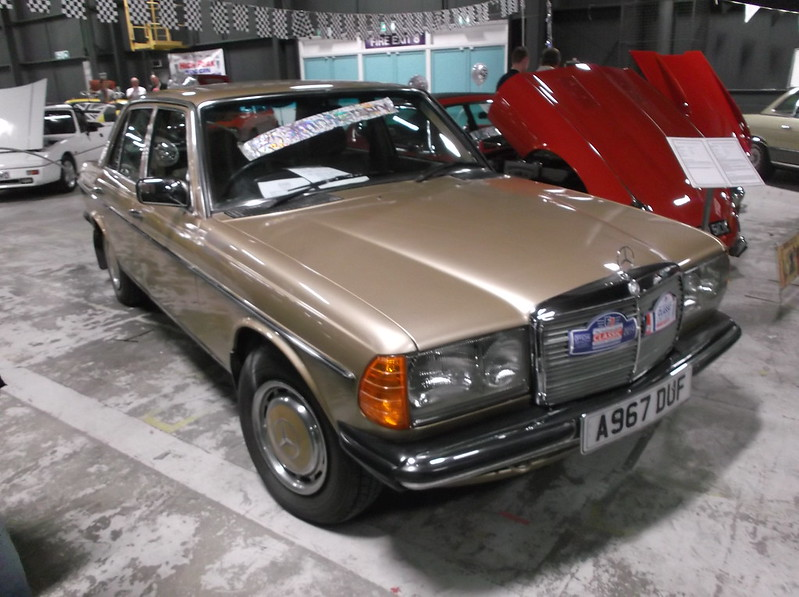number_plate: (543, 366, 764, 452)
